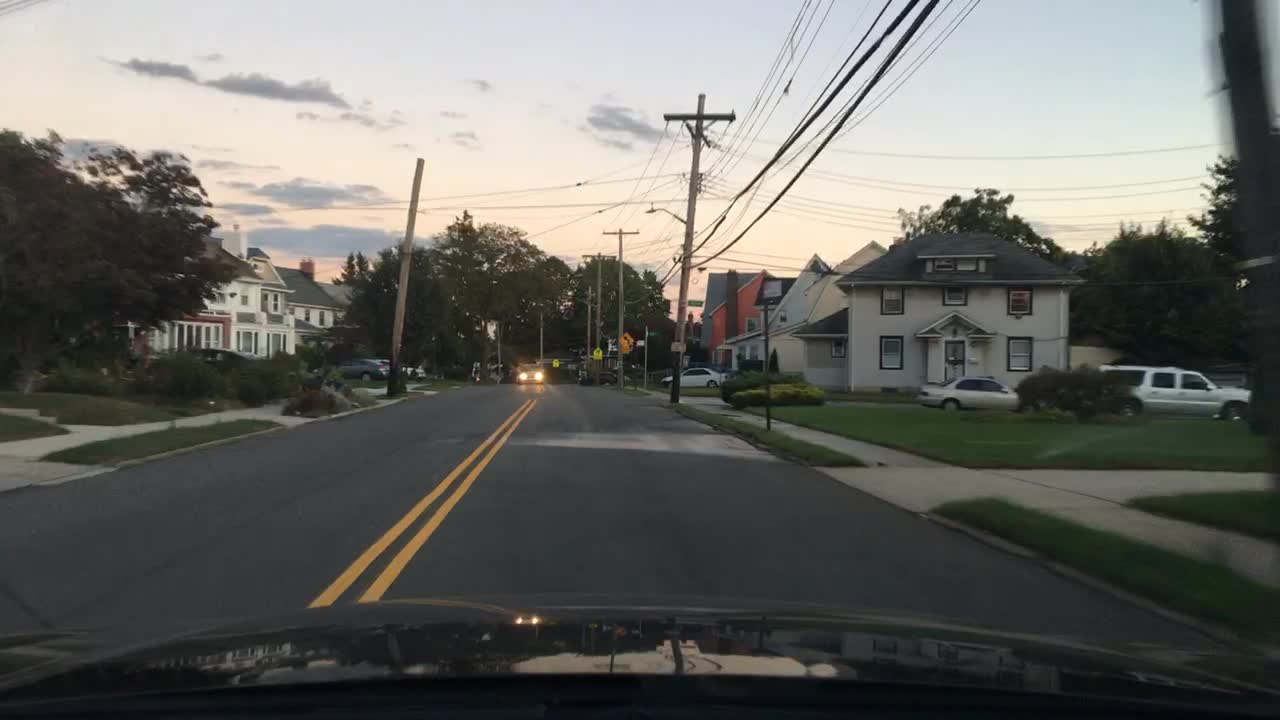car: (1096, 362, 1251, 422), (917, 375, 1029, 412), (185, 344, 261, 375), (658, 365, 730, 388), (335, 356, 387, 383), (373, 358, 427, 381), (576, 370, 630, 385), (515, 362, 545, 384), (430, 370, 443, 379)
traffic sign: (762, 281, 780, 296), (617, 331, 634, 345), (687, 300, 703, 307), (593, 346, 602, 356), (620, 344, 629, 353), (552, 358, 559, 367), (591, 354, 603, 359), (647, 331, 658, 336), (635, 339, 644, 345)
